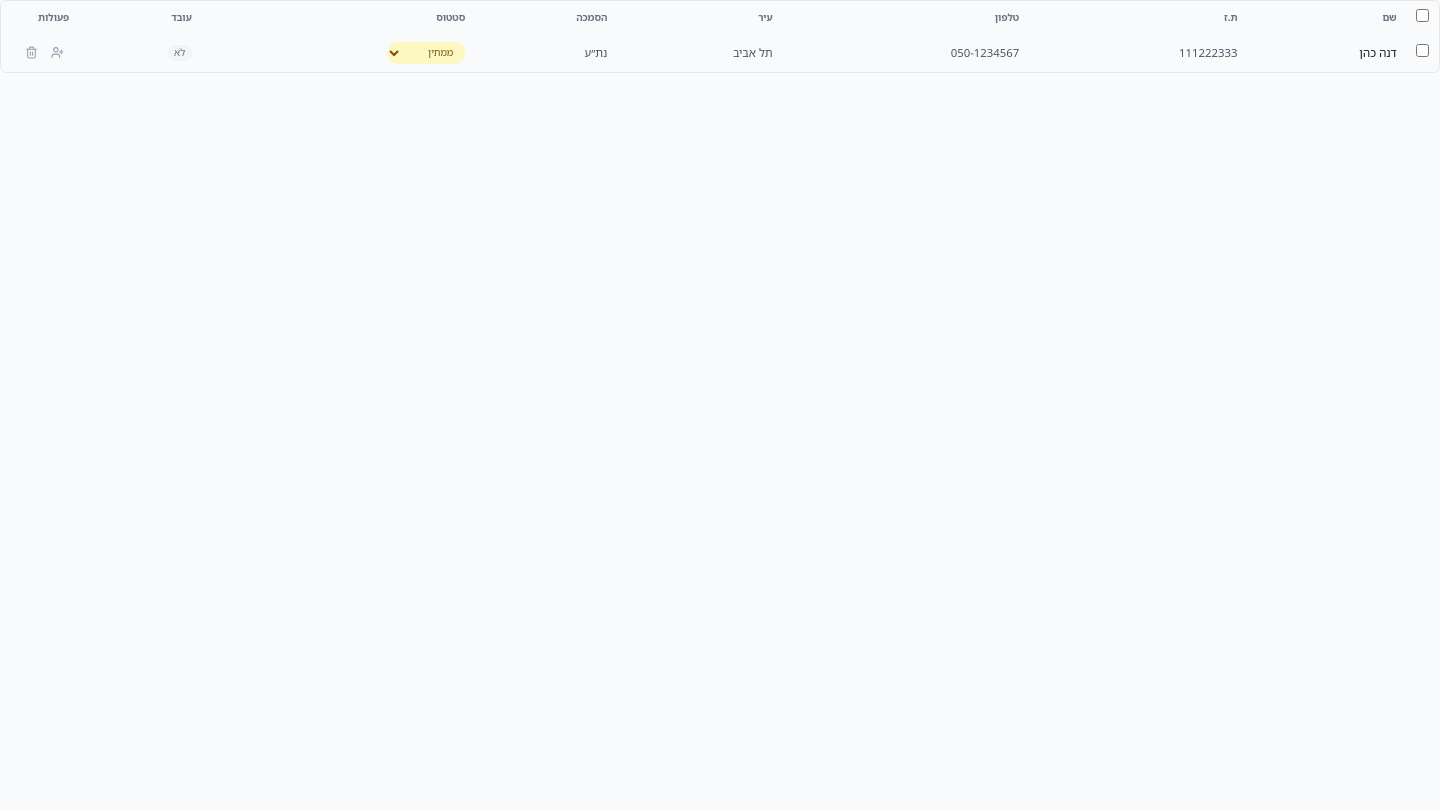
Test: CandidatesTable — success banner and auto-dismiss › shows success banner when server action returns status="promoted"
Click the button named "קדם דנה כהן לעובד": (58, 53) [46, 41, 69, 64]
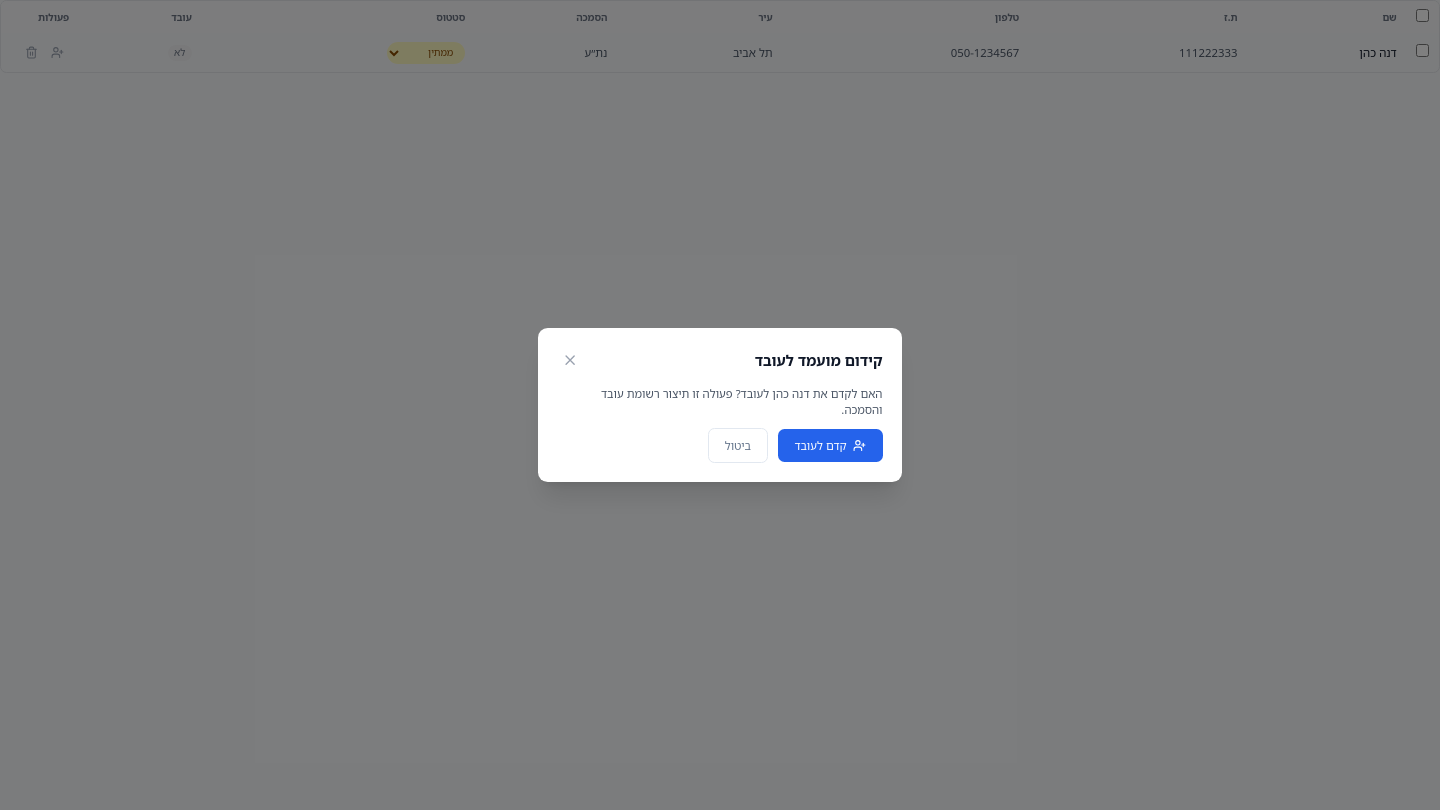
Click the button "קדם לעובד": (830, 446) [778, 429, 882, 462]
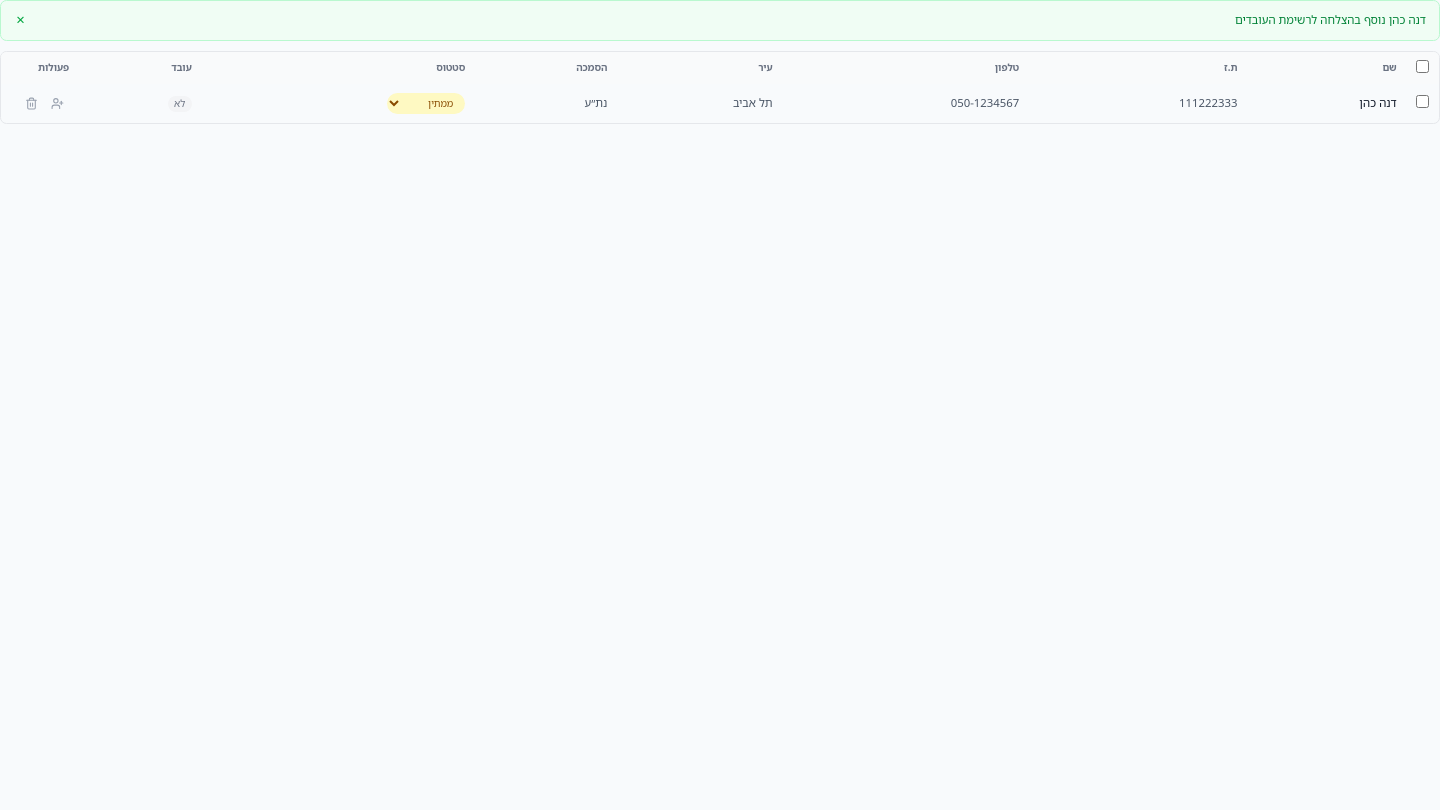
Expected: the message shows "דנה כהן נוסף בהצלחה לרשימת העובדים", [1235, 12, 1426, 27]
